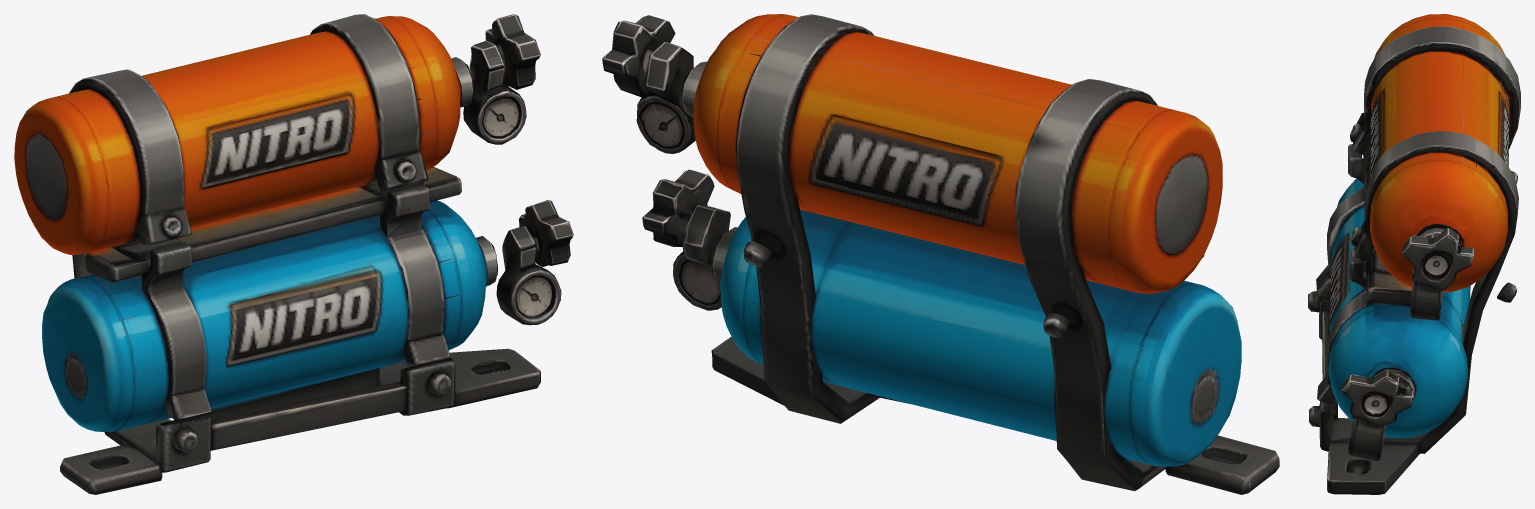
Rendered from donnerbuechse-nitro_kit.glb.
3 views of the same model, side by side, from view 1: azimuth 30°, elevation 25°; view 2: azimuth 150°, elevation 25°; view 3: azimuth 270°, elevation 25° (orthographic). The views are drawn at different scales.
Parts seen in each view (by area): view 1: tripo_node_e19efa64-9d3e-4a9e-8d50-559796c925ad; view 2: tripo_node_e19efa64-9d3e-4a9e-8d50-559796c925ad; view 3: tripo_node_e19efa64-9d3e-4a9e-8d50-559796c925ad.
Part boxes in pixels (x1,y1,x2,y2): tripo_node_e19efa64-9d3e-4a9e-8d50-559796c925ad: (14, 14, 573, 494); tripo_node_e19efa64-9d3e-4a9e-8d50-559796c925ad: (602, 14, 1279, 494); tripo_node_e19efa64-9d3e-4a9e-8d50-559796c925ad: (1308, 14, 1520, 494).
Size of the model in its own units: 0.75 by 0.4976 by 0.3126.
1 material, 1 textured.
